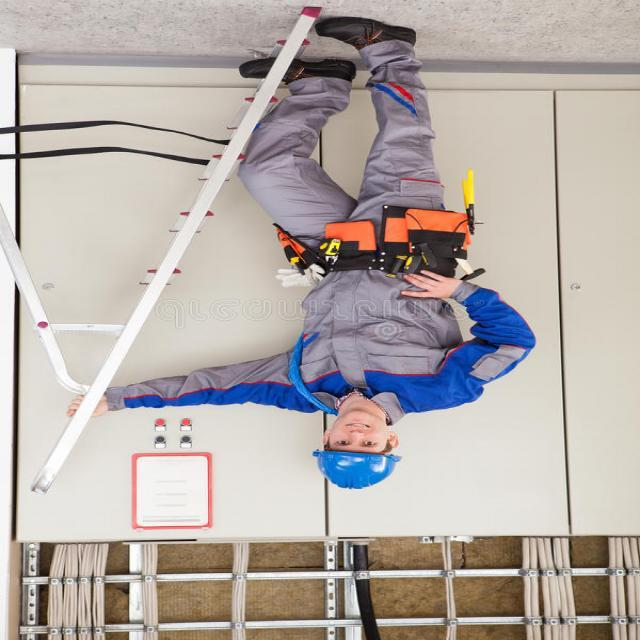safetyhelmet: (304, 406, 407, 489)
